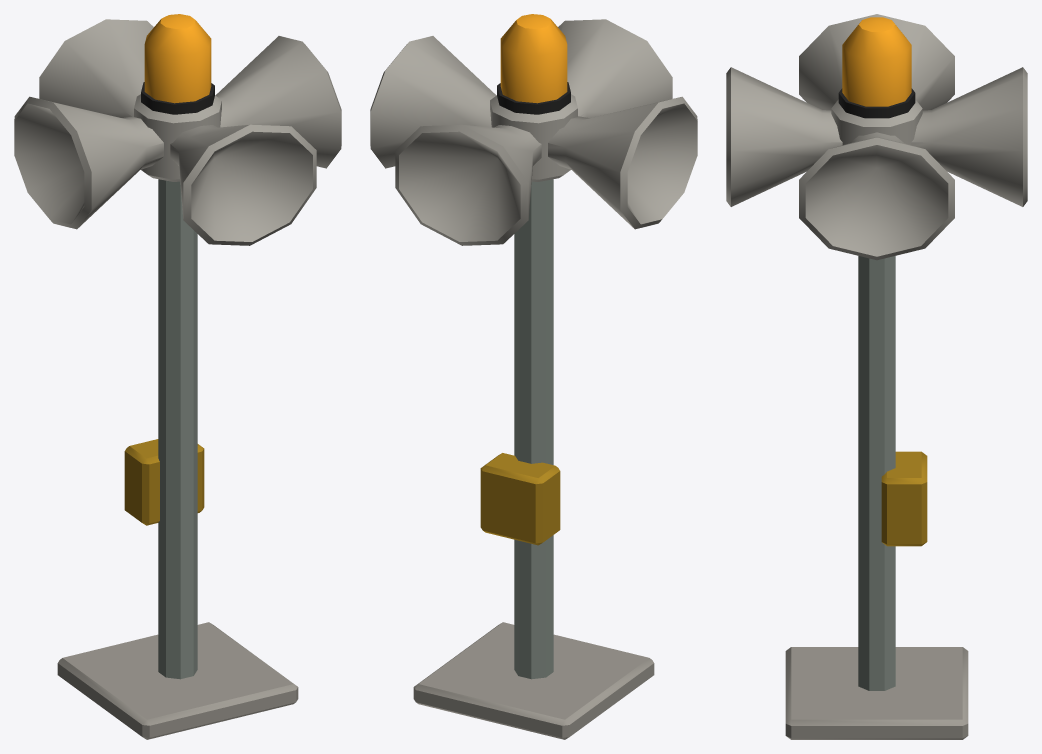
File: 398_sirene_alerte.fbx
3 views of the same model, side by side, from view 1: azimuth 30°, elevation 25°; view 2: azimuth 150°, elevation 25°; view 3: azimuth 270°, elevation 25° (orthographic).
Visible parts, largest first — view 1: Sirene, Poteau, Gyrophare; view 2: Sirene, Poteau, Gyrophare; view 3: Sirene, Poteau, Gyrophare.
Part boxes in pixels (x1,y1,x2,y2): Sirene: (14,19,341,245); Poteau: (57,179,298,739); Gyrophare: (141,14,214,114); Sirene: (370,19,697,245); Poteau: (413,179,654,739); Gyrophare: (497,14,570,114); Sirene: (726,14,1027,260); Poteau: (785,256,968,739); Gyrophare: (838,17,915,118).
Size of the model in its own units: 1.12 by 2.8 by 1.12.
1 material, 1 textured.
